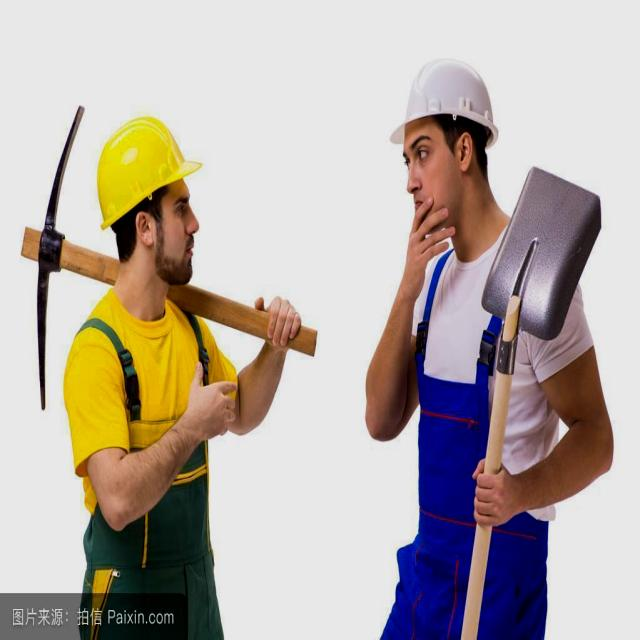face_nomask: (132, 185, 202, 288), (400, 130, 460, 240)
hand_noglove: (469, 450, 522, 534), (399, 199, 460, 267), (184, 368, 239, 441), (246, 291, 302, 354)
head_helmet: (96, 119, 208, 232), (389, 59, 497, 146)
person: (377, 59, 548, 640), (78, 113, 219, 640)
